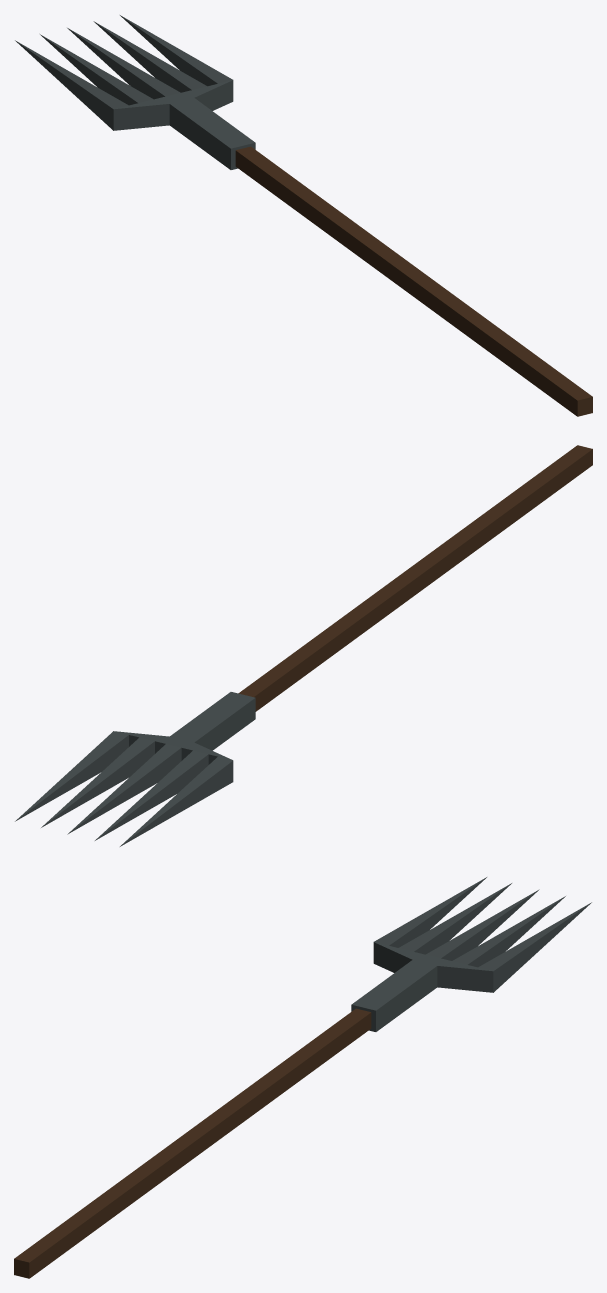
The model's file is Pitchfork_1_Dark_Brown.fbx.
3 renders of one model, top to bottom at view 1: azimuth 30°, elevation 25°; view 2: azimuth 150°, elevation 25°; view 3: azimuth 330°, elevation 25°, orthographic.
Parts seen in each view (by area): view 1: Pitchfork_1_Dark_Brown; view 2: Pitchfork_1_Dark_Brown; view 3: Pitchfork_1_Dark_Brown.
Part boxes in pixels (left/top/right/bottom): Pitchfork_1_Dark_Brown: left=15, top=15, right=592, bottom=416; Pitchfork_1_Dark_Brown: left=15, top=445, right=592, bottom=846; Pitchfork_1_Dark_Brown: left=14, top=877, right=591, bottom=1278.
Bounding box in the file's own units: 46.49 × 8 × 348.
